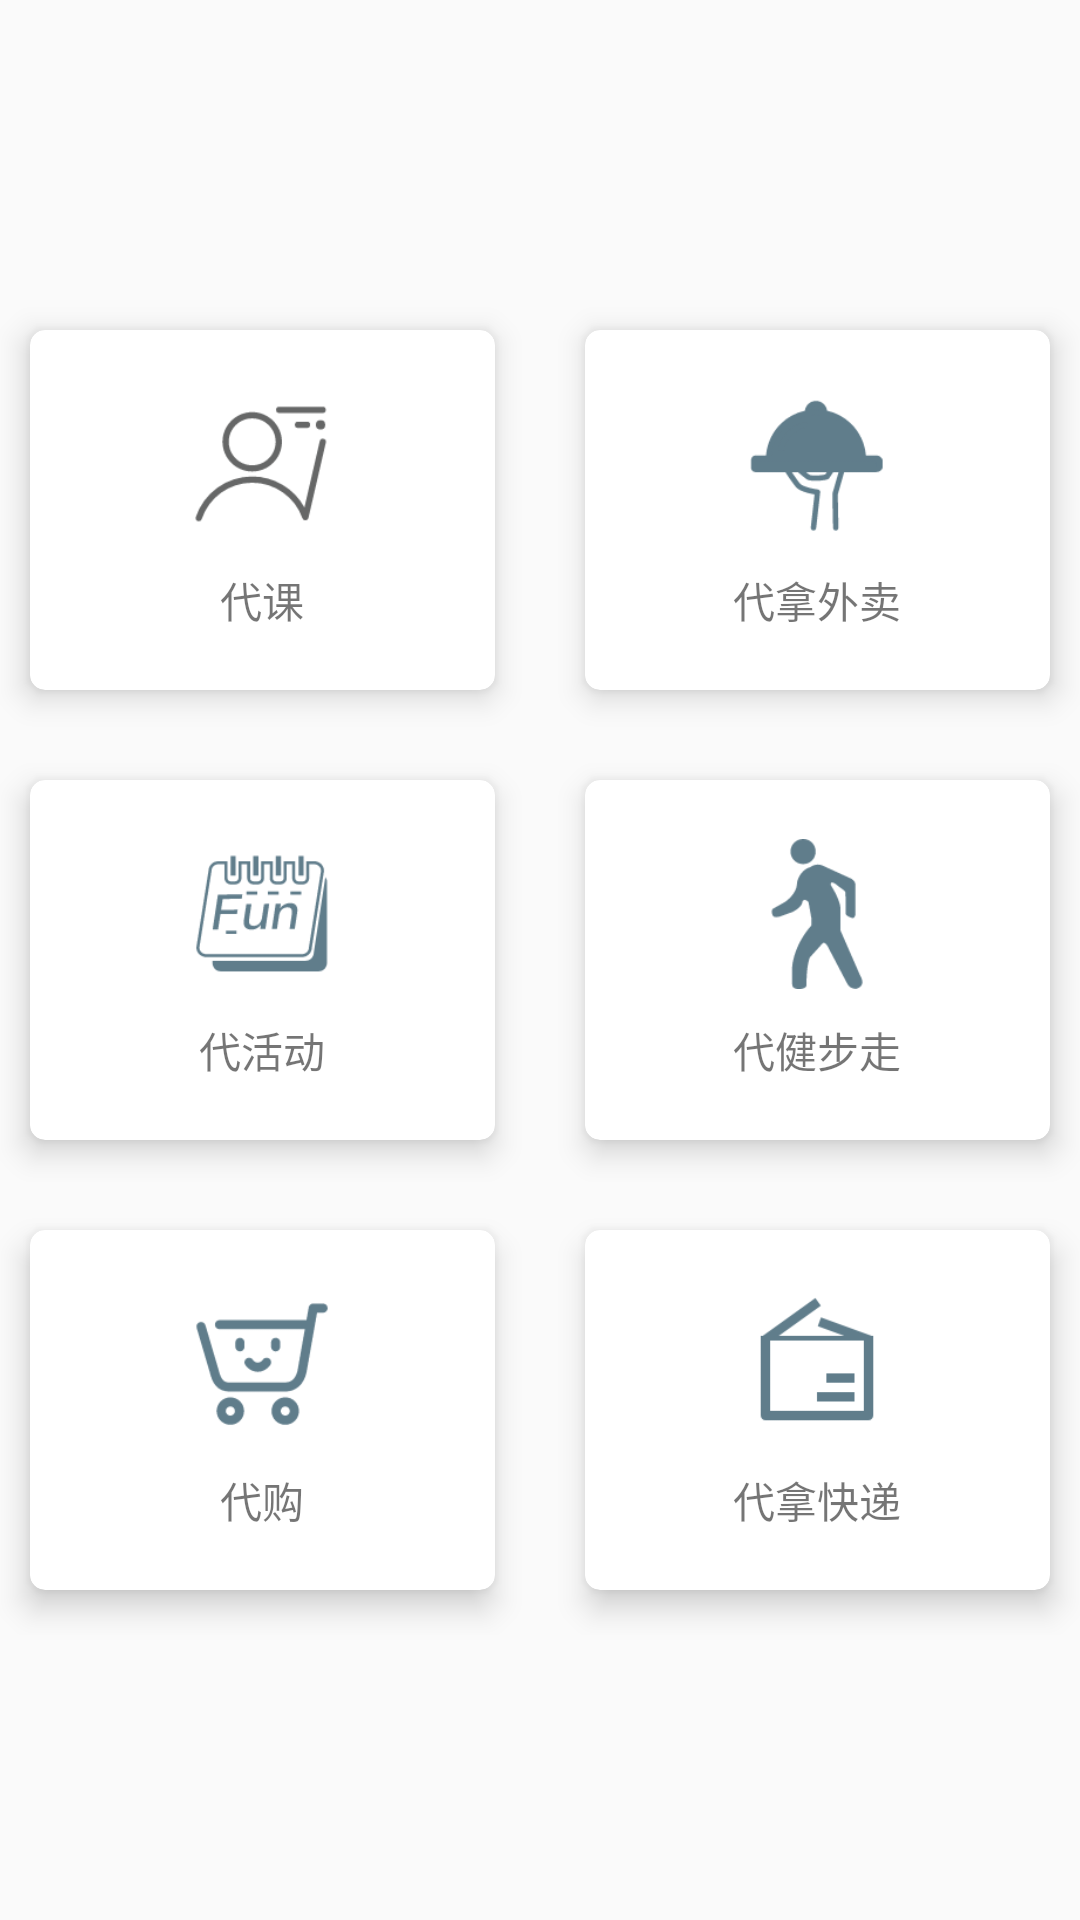

Icon bounding boxes for this 1080×1920 phone screenshot, format (x1, y1, x2, y2):
instead activity: (196, 855, 328, 972)
instead food: (750, 400, 883, 531)
instead package: (760, 1298, 874, 1421)
instead shop: (196, 1303, 328, 1425)
